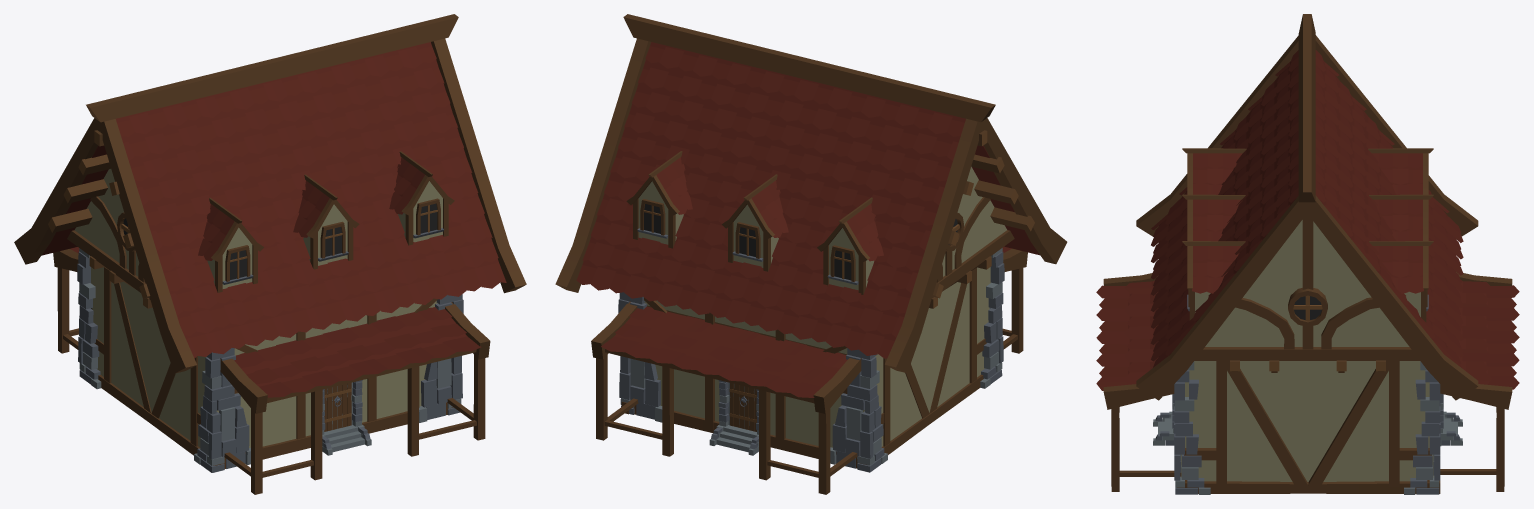
File: village_inn.glb
3 renders of one model, left to right at view 1: azimuth 30°, elevation 25°; view 2: azimuth 150°, elevation 25°; view 3: azimuth 270°, elevation 25°, orthographic.
Visible parts, largest first — view 1: merged; view 2: merged; view 3: merged.
Boxes of the visible parts, x1=… form: merged: x1=14, y1=14, x2=526, y2=494; merged: x1=555, y1=14, x2=1067, y2=494; merged: x1=1096, y1=14, x2=1519, y2=494.
Size of the model in its own units: 6.45 by 5.59 by 6.43.
